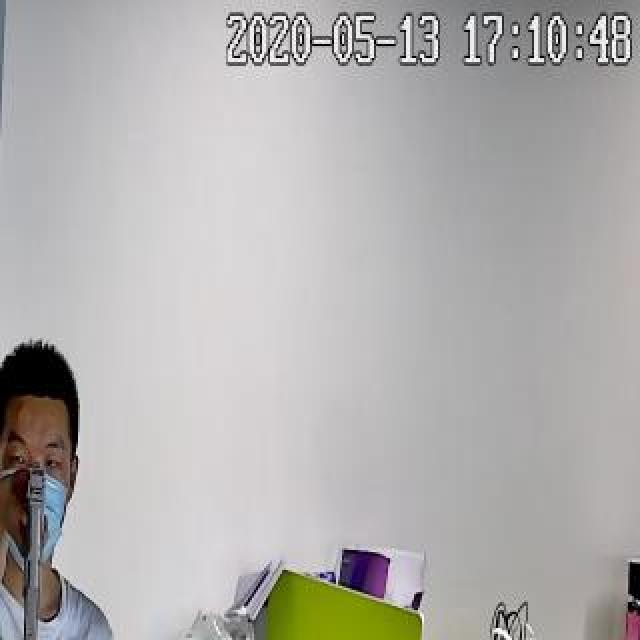Guns: (4, 454, 58, 640)
